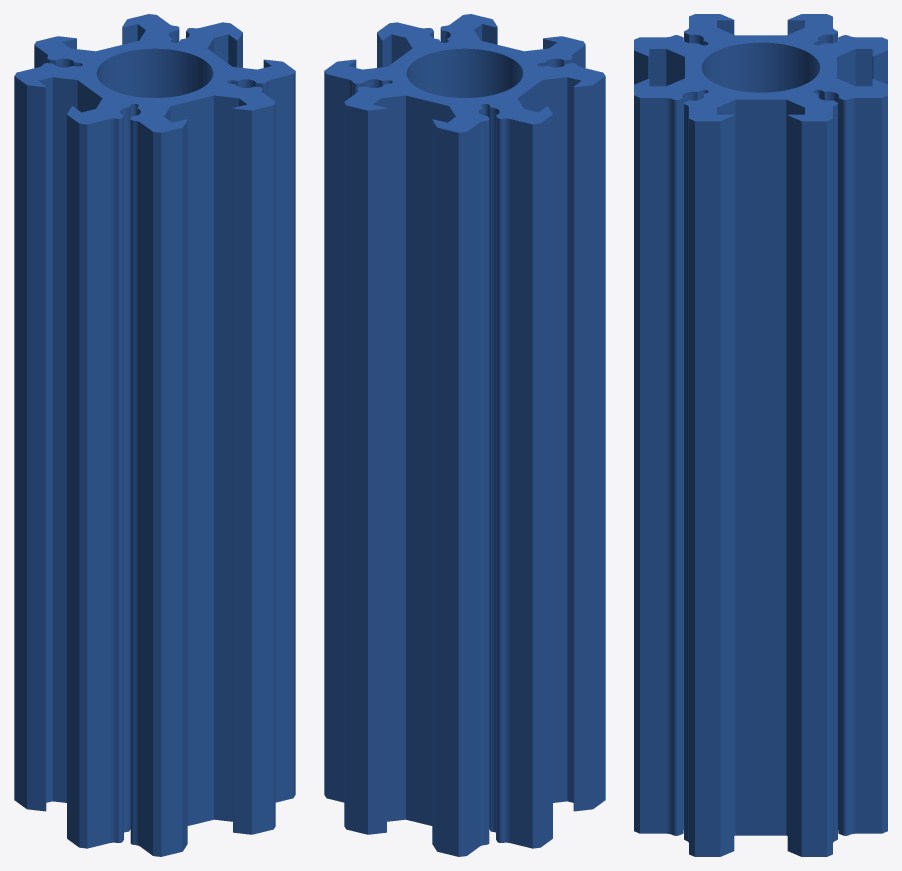
File: 76127-96mm-t-slot-extrusion.dae
3 renders of one model, left to right at view 1: azimuth 30°, elevation 25°; view 2: azimuth 150°, elevation 25°; view 3: azimuth 270°, elevation 25°, orthographic.
Parts seen in each view (by area): view 1: node_062287e7_716b_42a9_b574_198e35895e9f_mesh0; view 2: node_062287e7_716b_42a9_b574_198e35895e9f_mesh0; view 3: node_062287e7_716b_42a9_b574_198e35895e9f_mesh0.
Boxes of the visible parts, box(x1,y1,x2,y2) form: node_062287e7_716b_42a9_b574_198e35895e9f_mesh0: box(14, 14, 295, 856); node_062287e7_716b_42a9_b574_198e35895e9f_mesh0: box(324, 14, 605, 856); node_062287e7_716b_42a9_b574_198e35895e9f_mesh0: box(634, 14, 887, 856).
Bounding box in the file's own units: 30 × 30 × 96.
